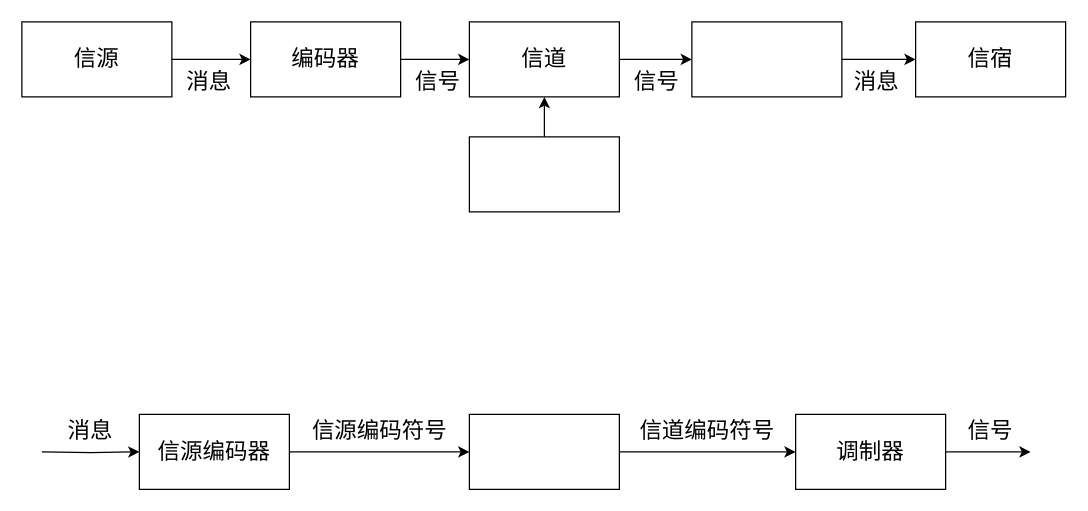
The diagram is 1088 pixels wide and 511 high, and some of its shapes have lost their labels. Here are the shapes that lost their labels. From the top down, the box of each, then its label:
(691, 21, 842, 97): 译码器
(468, 136, 619, 212): 噪声
(468, 413, 619, 489): 信道编码器
